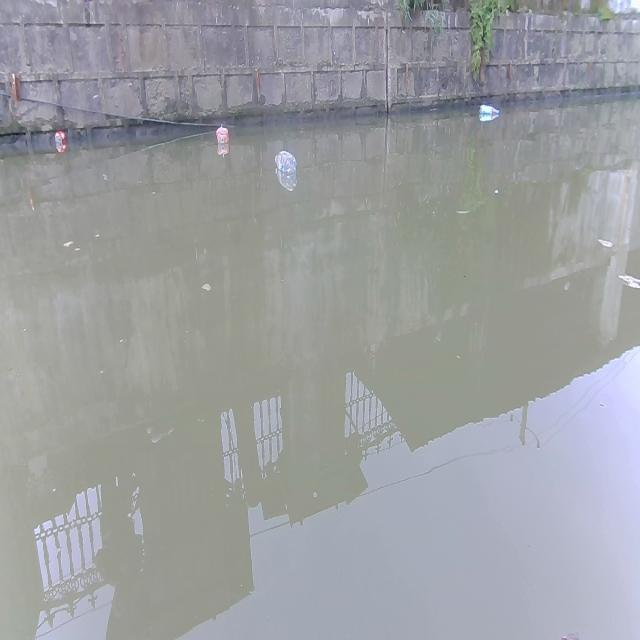bottle: (478, 105, 504, 122), (274, 150, 296, 170), (216, 126, 228, 142), (55, 130, 65, 148)
